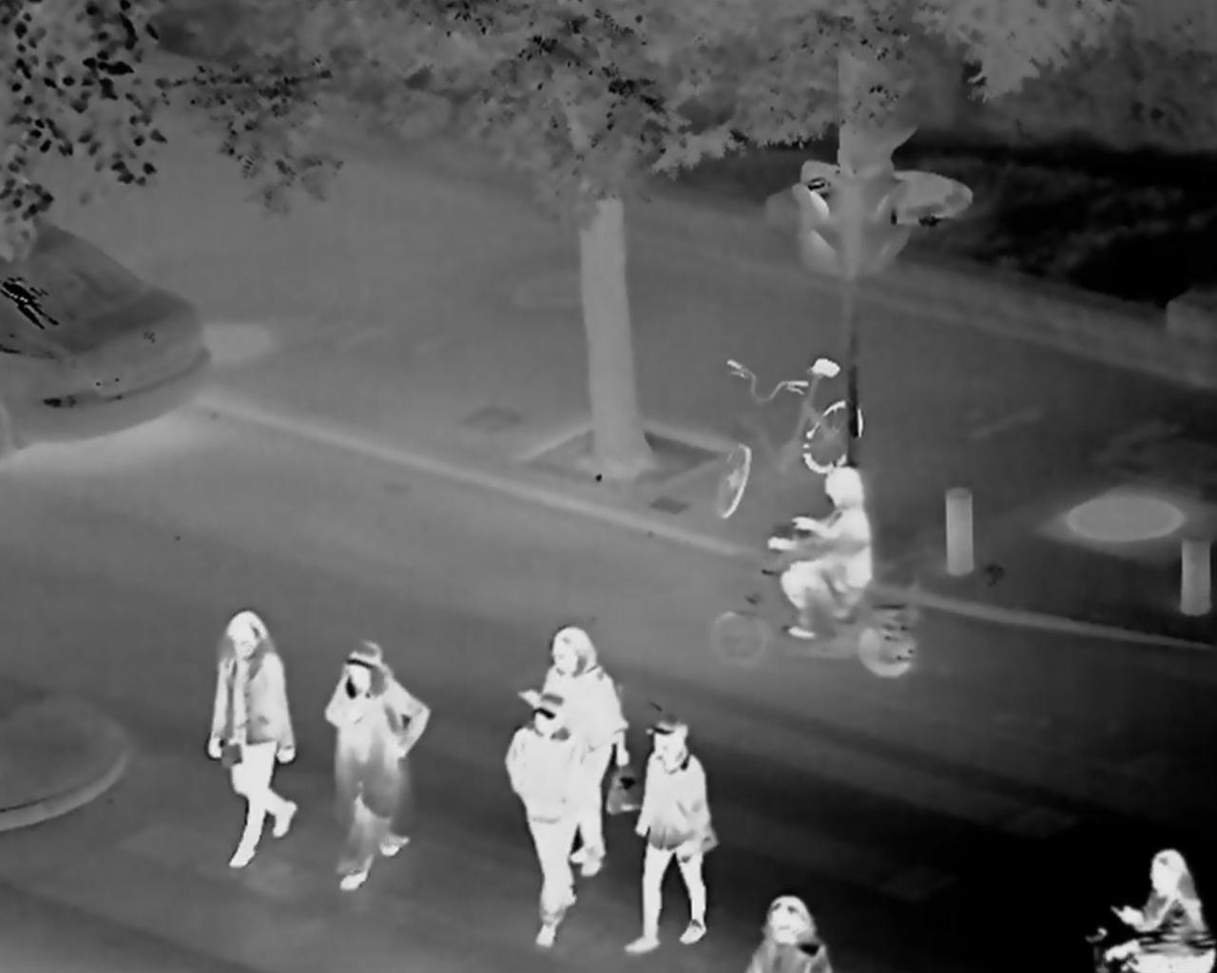person: (522, 625, 627, 875), (322, 640, 426, 890), (204, 609, 300, 867), (504, 695, 589, 949), (763, 469, 874, 658), (631, 714, 714, 956), (1098, 849, 1213, 973), (736, 891, 841, 973)
